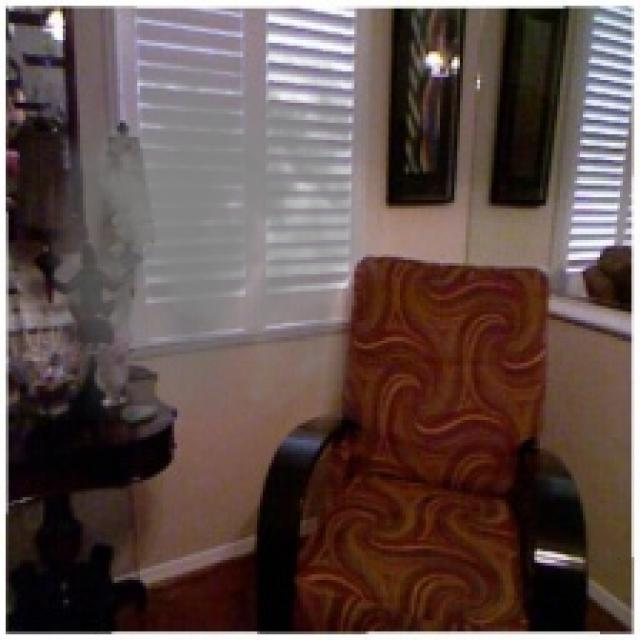smoke: (43, 40, 386, 420)
